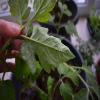Tomato mold leaf: (22, 26, 76, 75), (33, 0, 58, 23), (6, 0, 32, 17), (58, 81, 75, 99)
